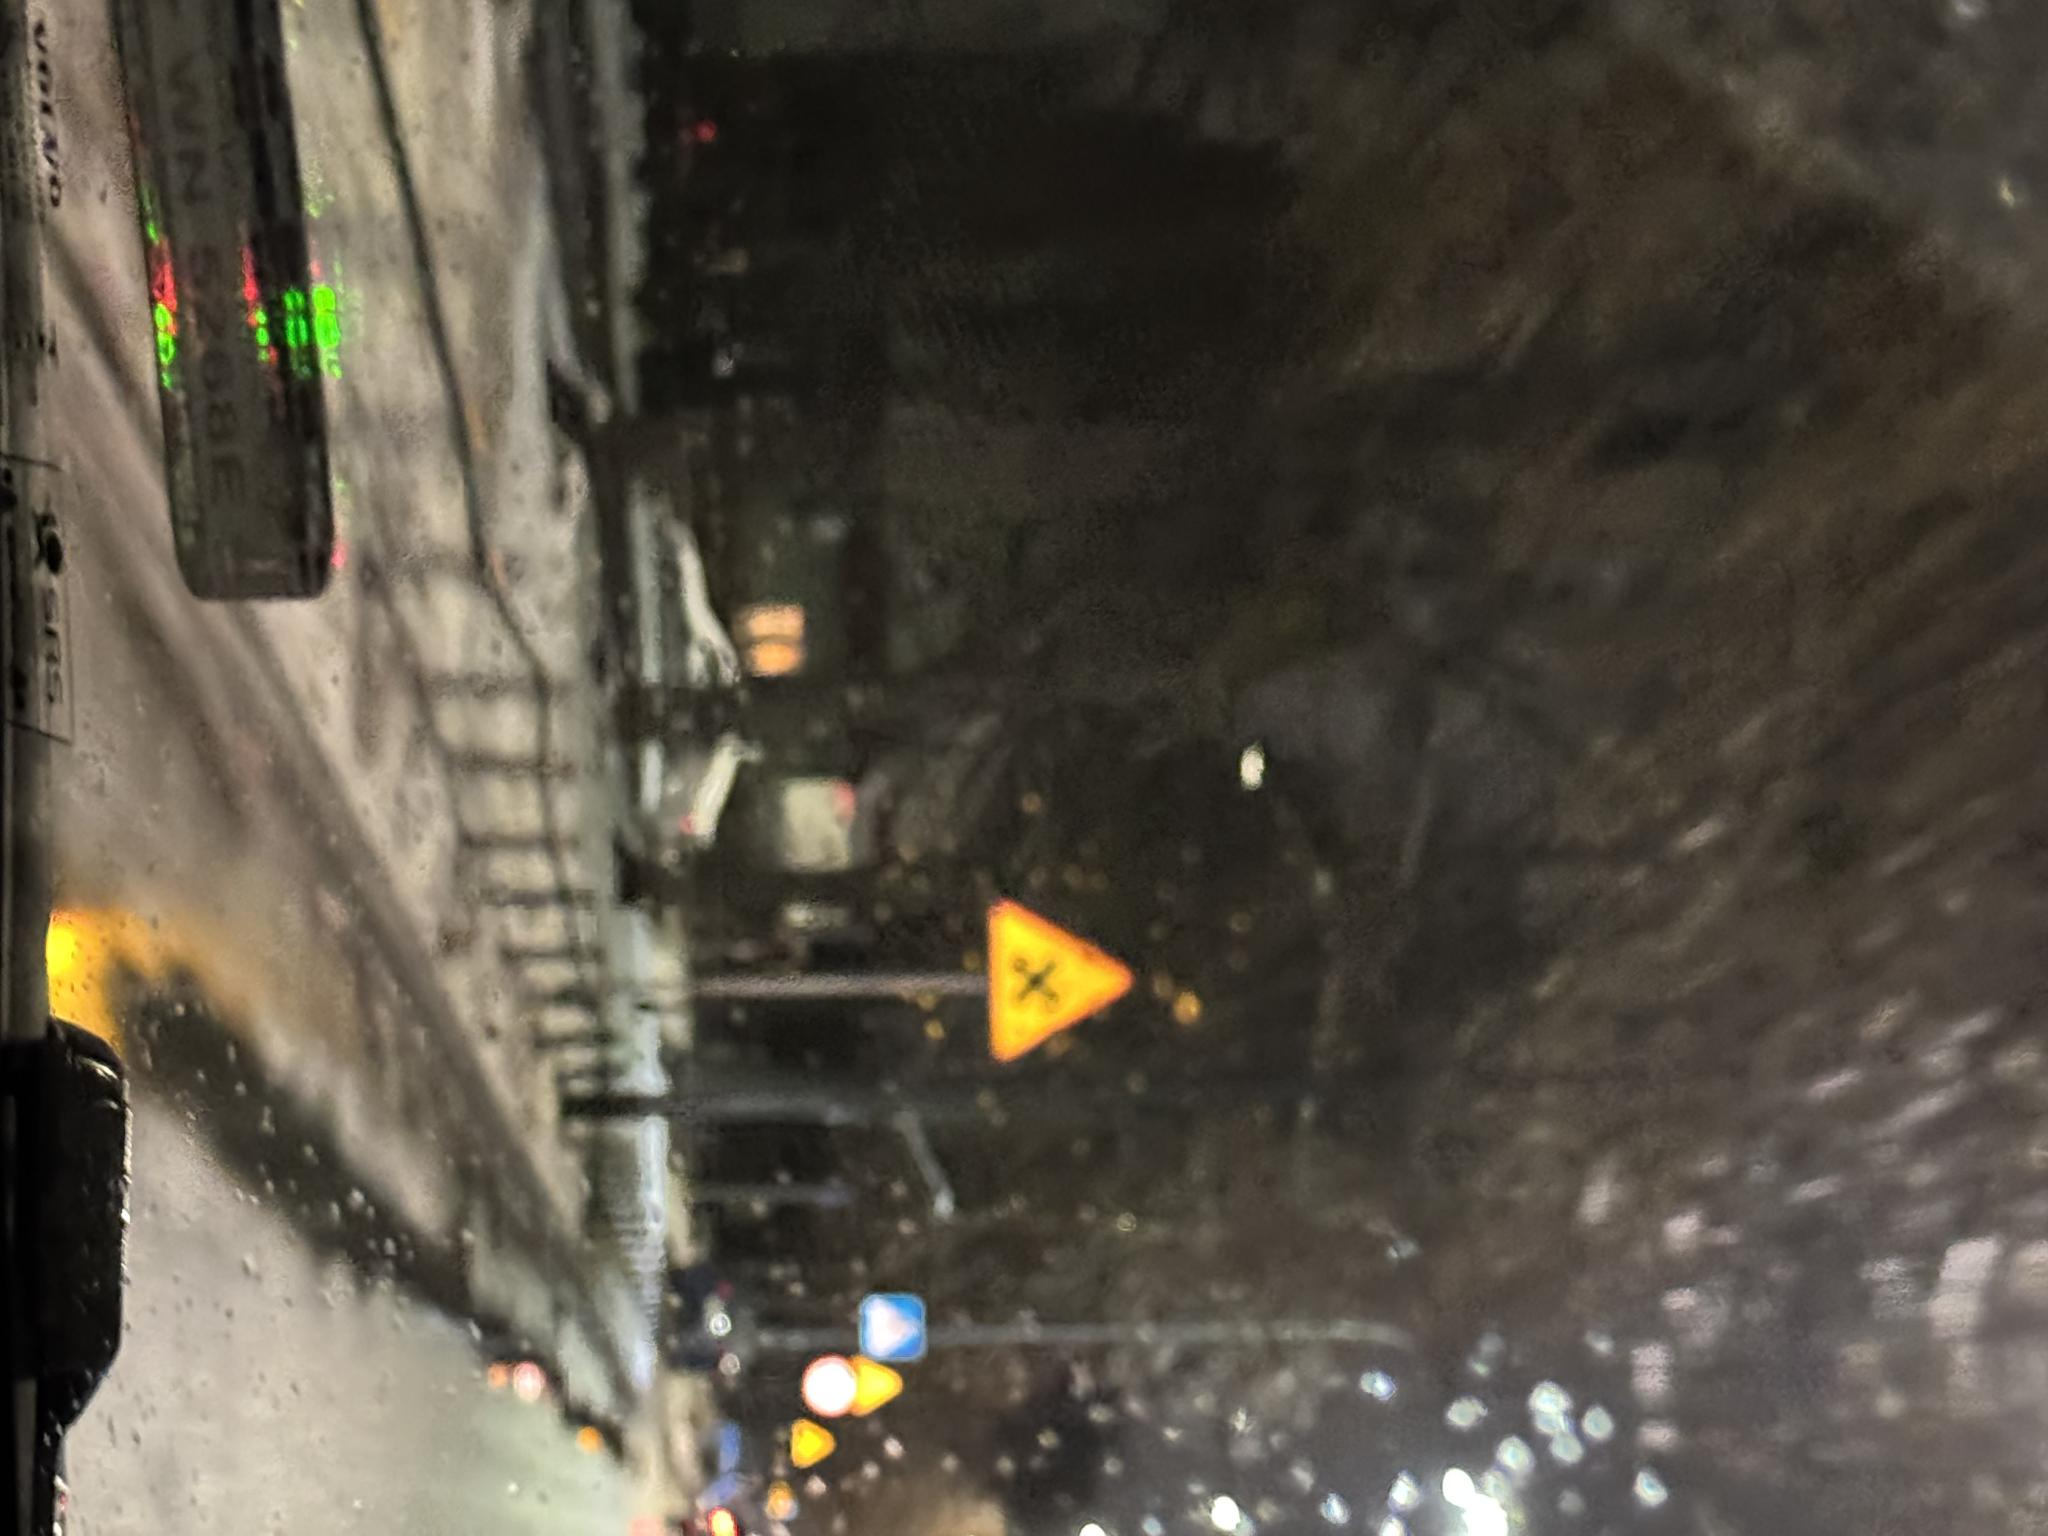information: (1804, 1122, 1874, 1188)
prohibitory: (1865, 1191, 1931, 1247)
warning: (1406, 910, 1576, 1062)
